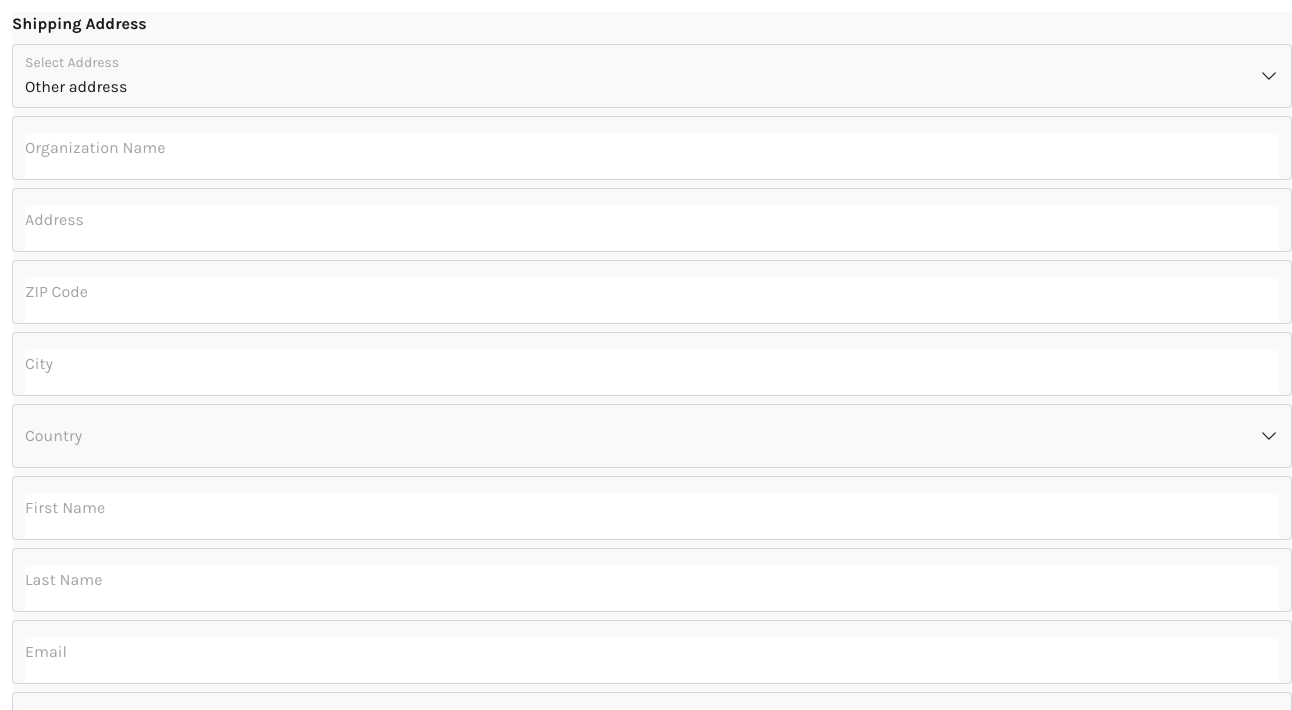
Test: B2BAddressForm › should handle case when no organization addresses are available
This screenshot has width=1292, height=710.
# Click on dropdown
Click the field with test id "address-form__select-address". click: (76, 86)
box: [13,45,1291,107]
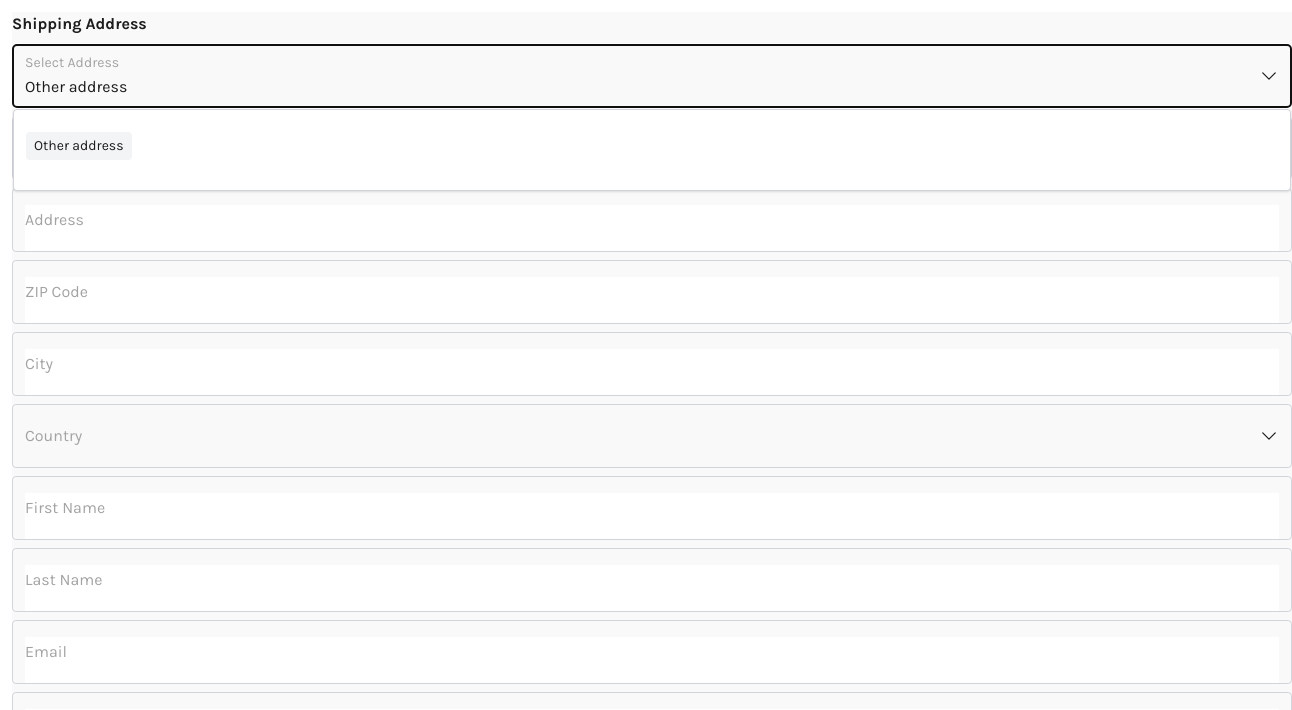
Result: the number of elements with test id "dropdown-field__item" is 1 at [26,132,132,160]
Result: the text with test id "dropdown-field__item" reads "Other address" at [34,137,124,154]
